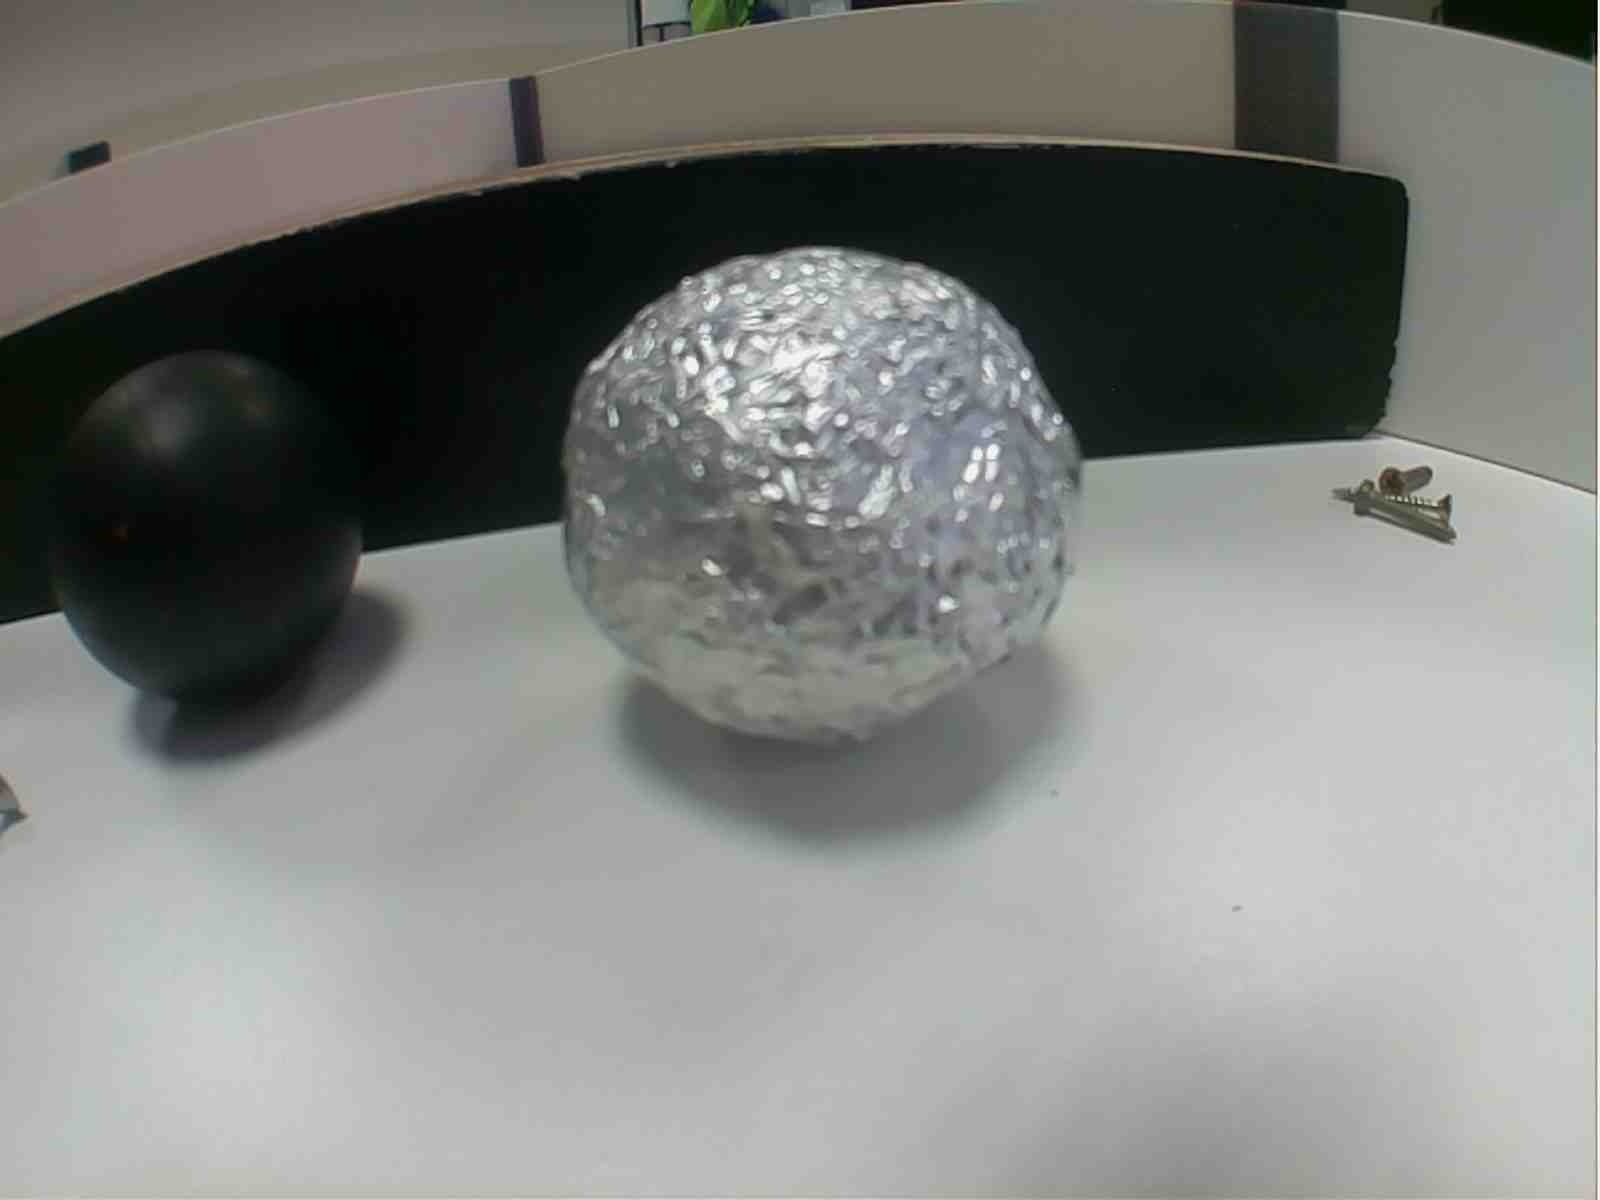bianca: (554, 245, 1091, 754)
nera: (50, 355, 367, 724)
